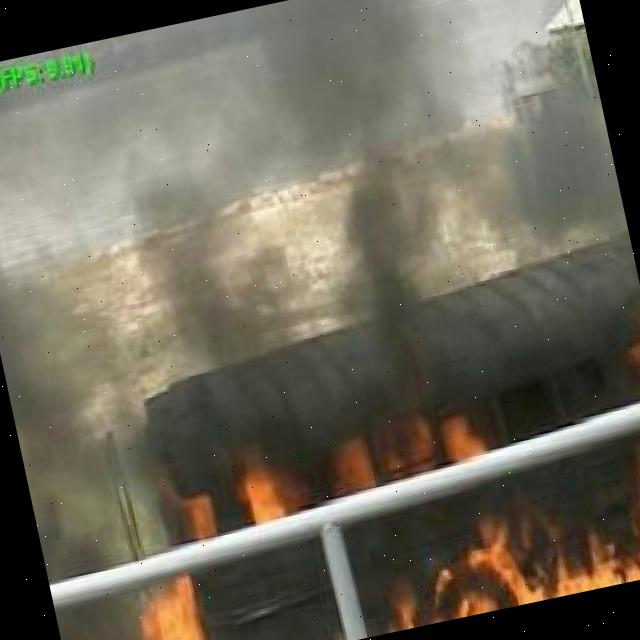fire: (355, 466, 640, 635), (184, 418, 482, 526), (61, 587, 236, 640)
